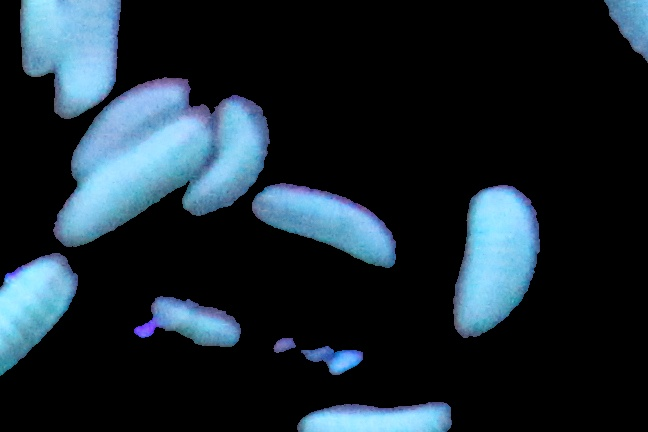larvae: (60, 117, 209, 242), (252, 185, 394, 269), (71, 80, 189, 176), (456, 188, 534, 333), (186, 99, 268, 219), (1, 254, 77, 378), (50, 2, 123, 115), (296, 398, 453, 432), (153, 299, 239, 346), (16, 1, 62, 80)
